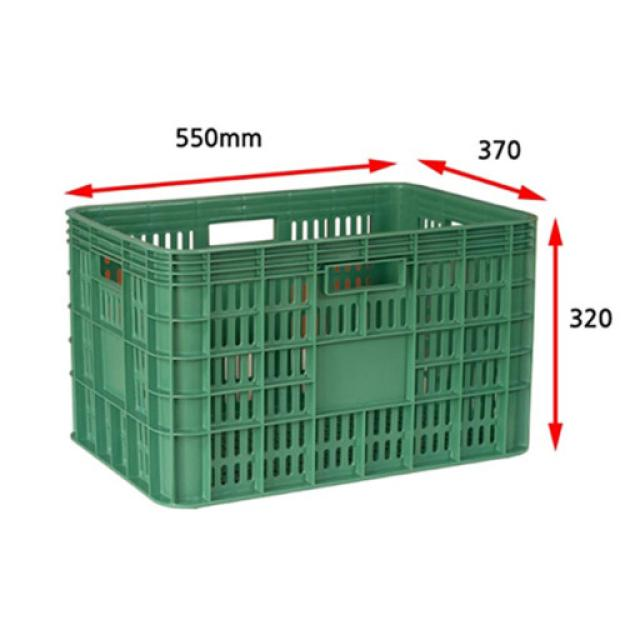basket: (67, 181, 543, 510)
